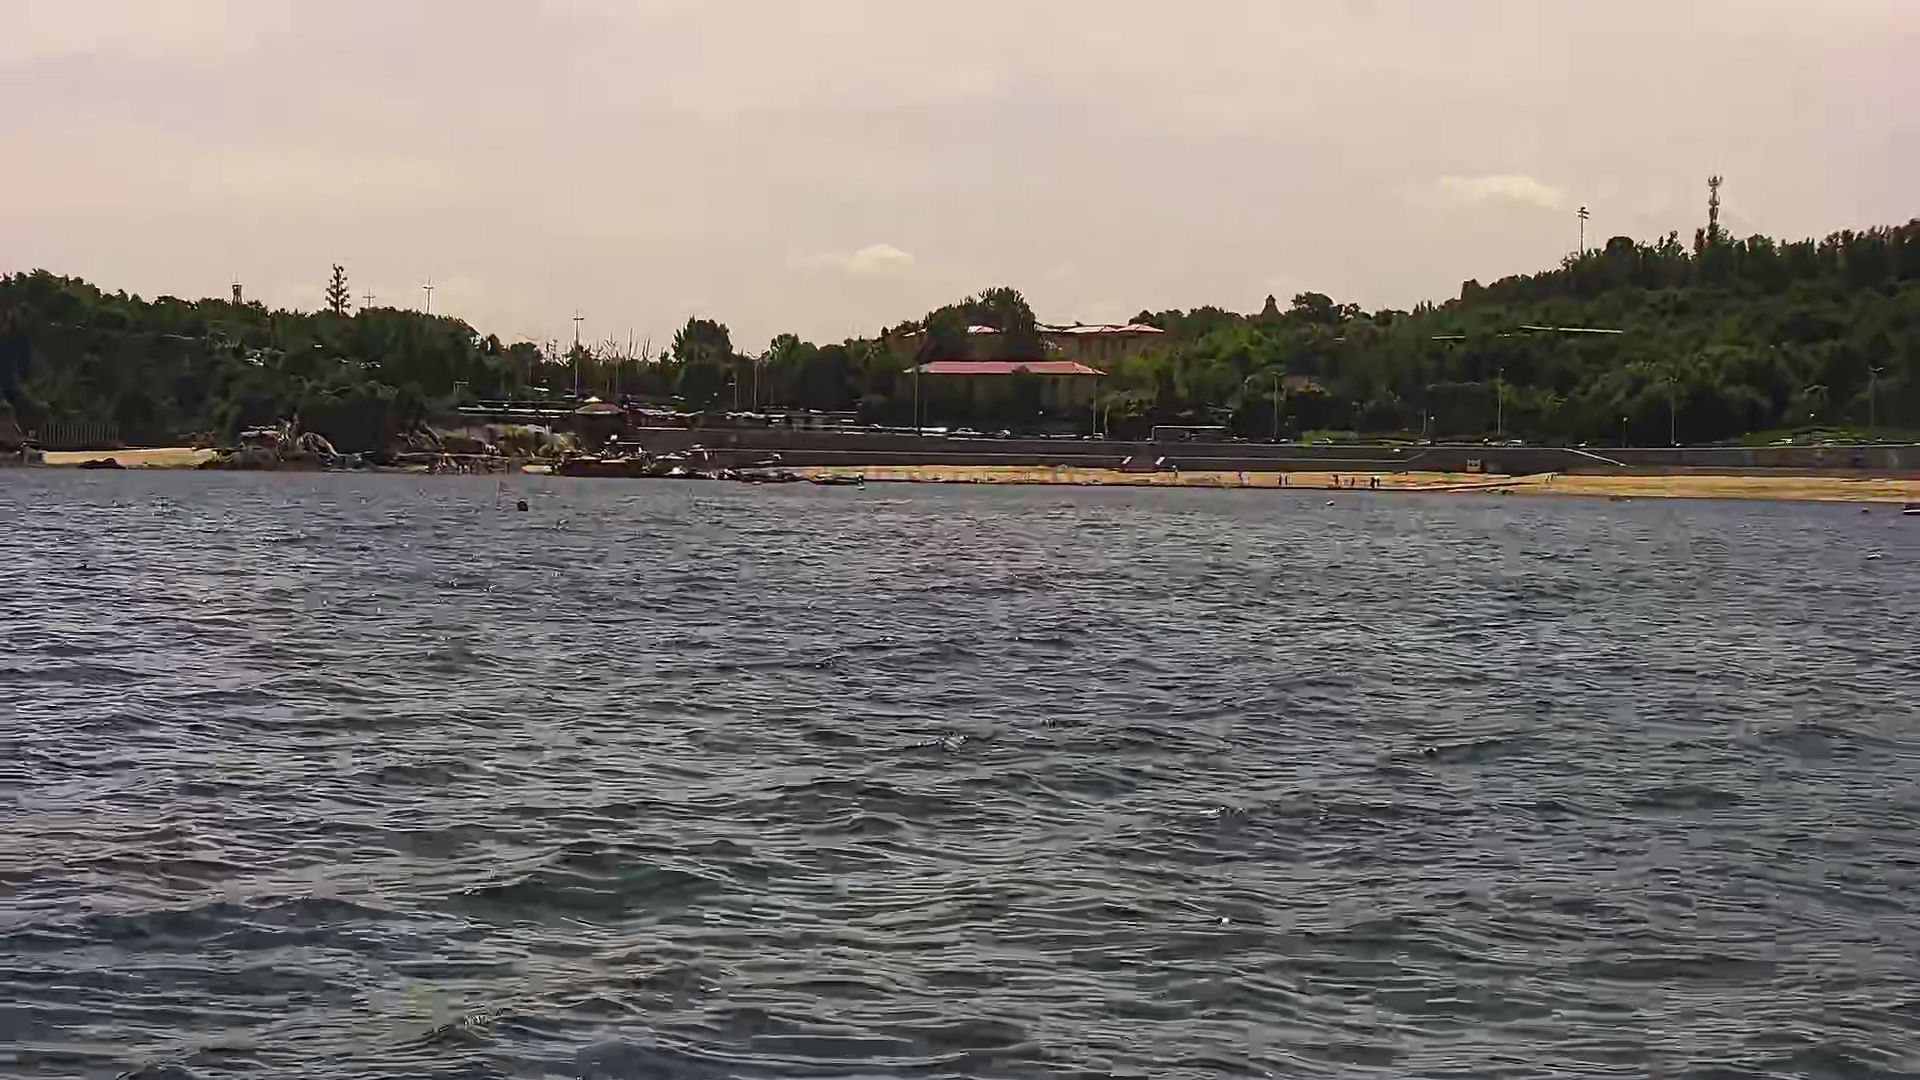ball: (512, 493, 533, 517)
boat: (556, 435, 707, 477), (808, 467, 866, 483)
